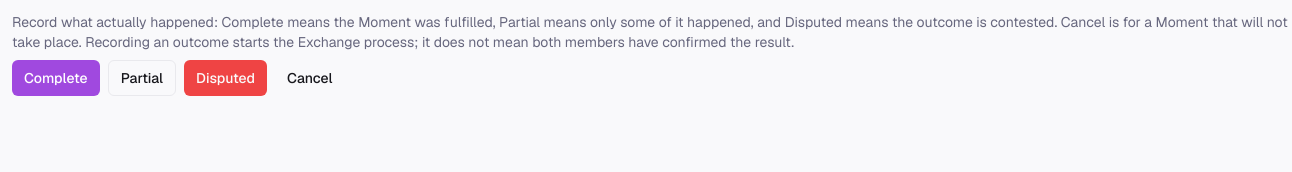
Test: MomentActions › restores Cancel control when its action rejects
Click the button "Cancel" at (310, 78), box [275, 60, 345, 96]
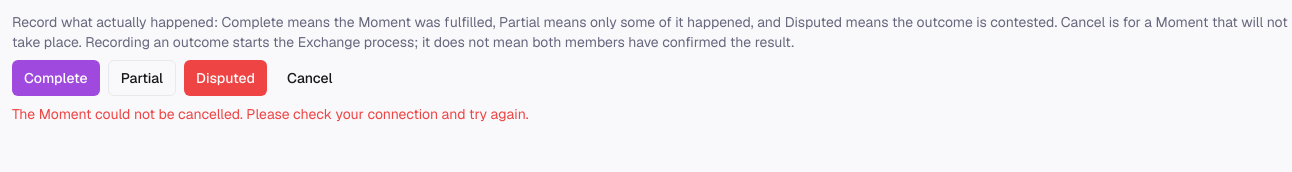
Check: the message reads "The Moment could not be cancelled. Please check your connection and try again.", box [12, 105, 529, 123]
